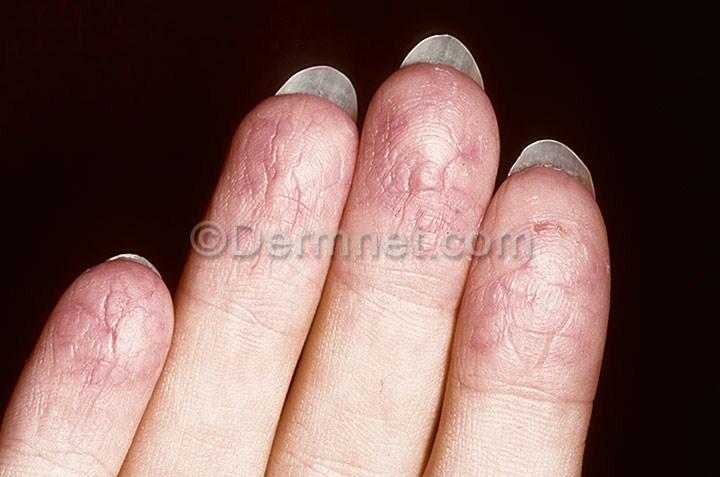Eczema: (505, 185, 588, 358), (374, 70, 459, 220), (209, 98, 304, 232), (53, 274, 141, 409)
